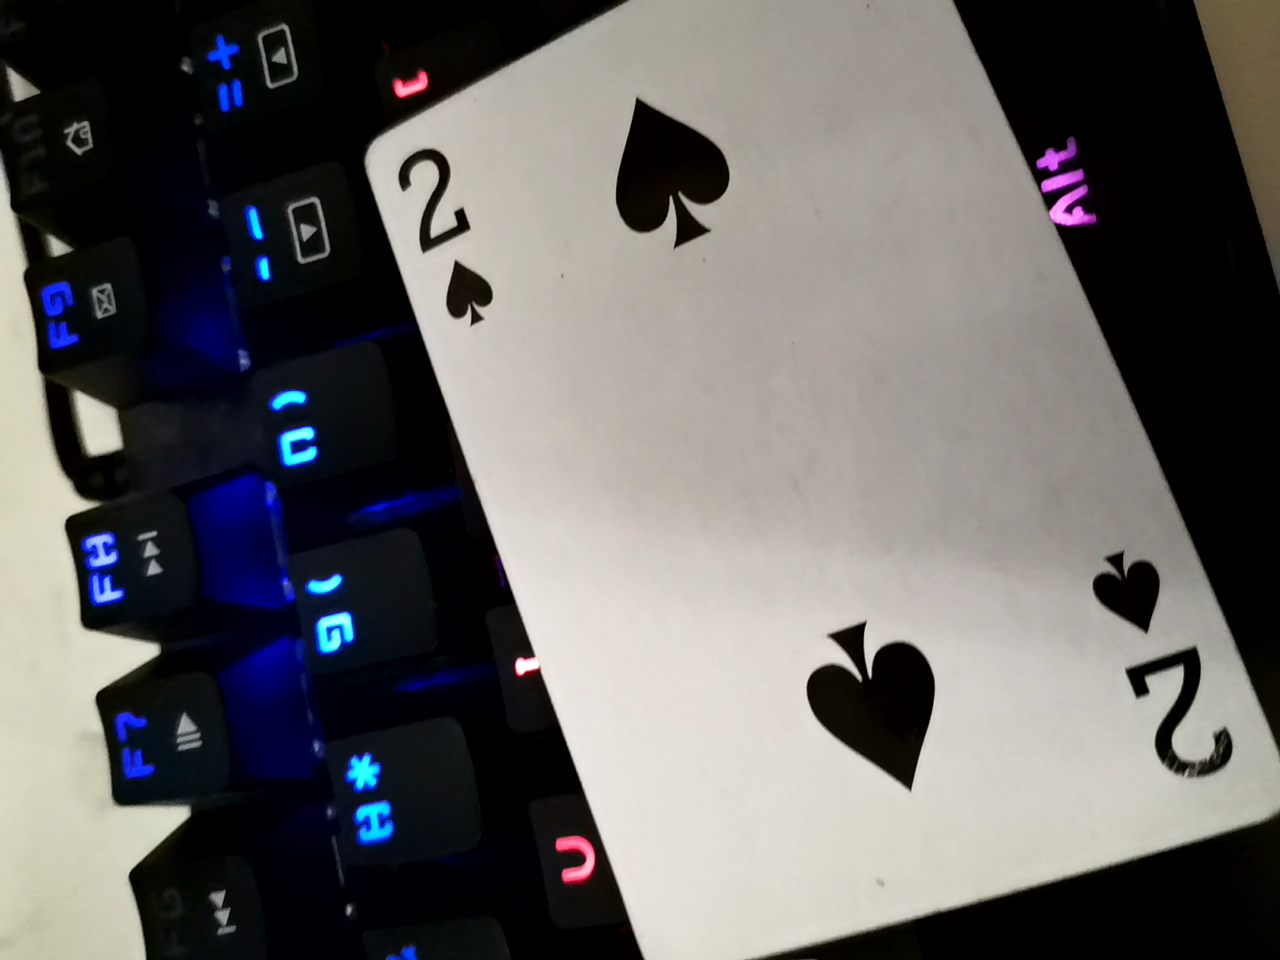ht 2: (331, 6, 1268, 959)
